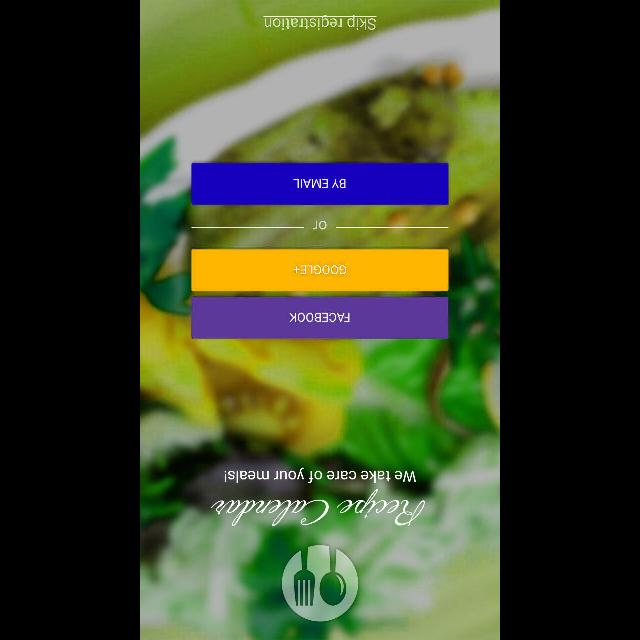backgroundimage: (140, 1, 500, 640)
image: (282, 544, 358, 622)
text: (211, 488, 425, 526), (224, 466, 416, 484), (263, 14, 377, 32), (313, 220, 327, 230)
textbutton: (192, 297, 448, 339), (192, 249, 448, 291), (192, 163, 448, 205)
